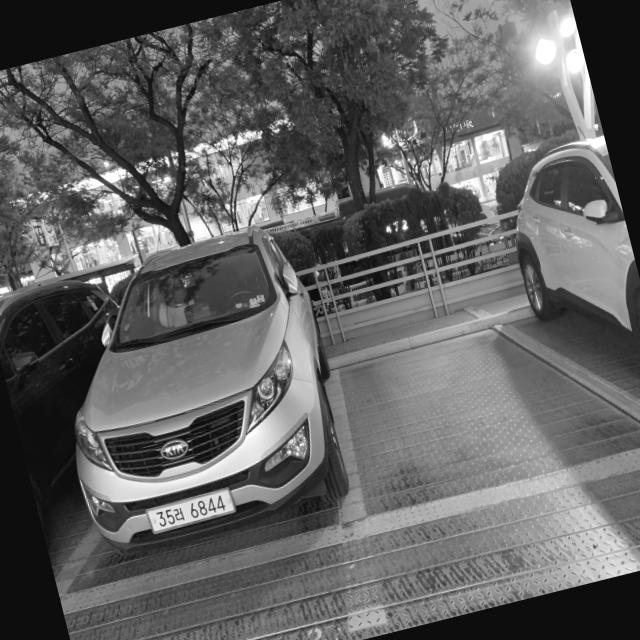car: (74, 230, 331, 550), (514, 142, 640, 341)
free: (336, 318, 640, 524)
